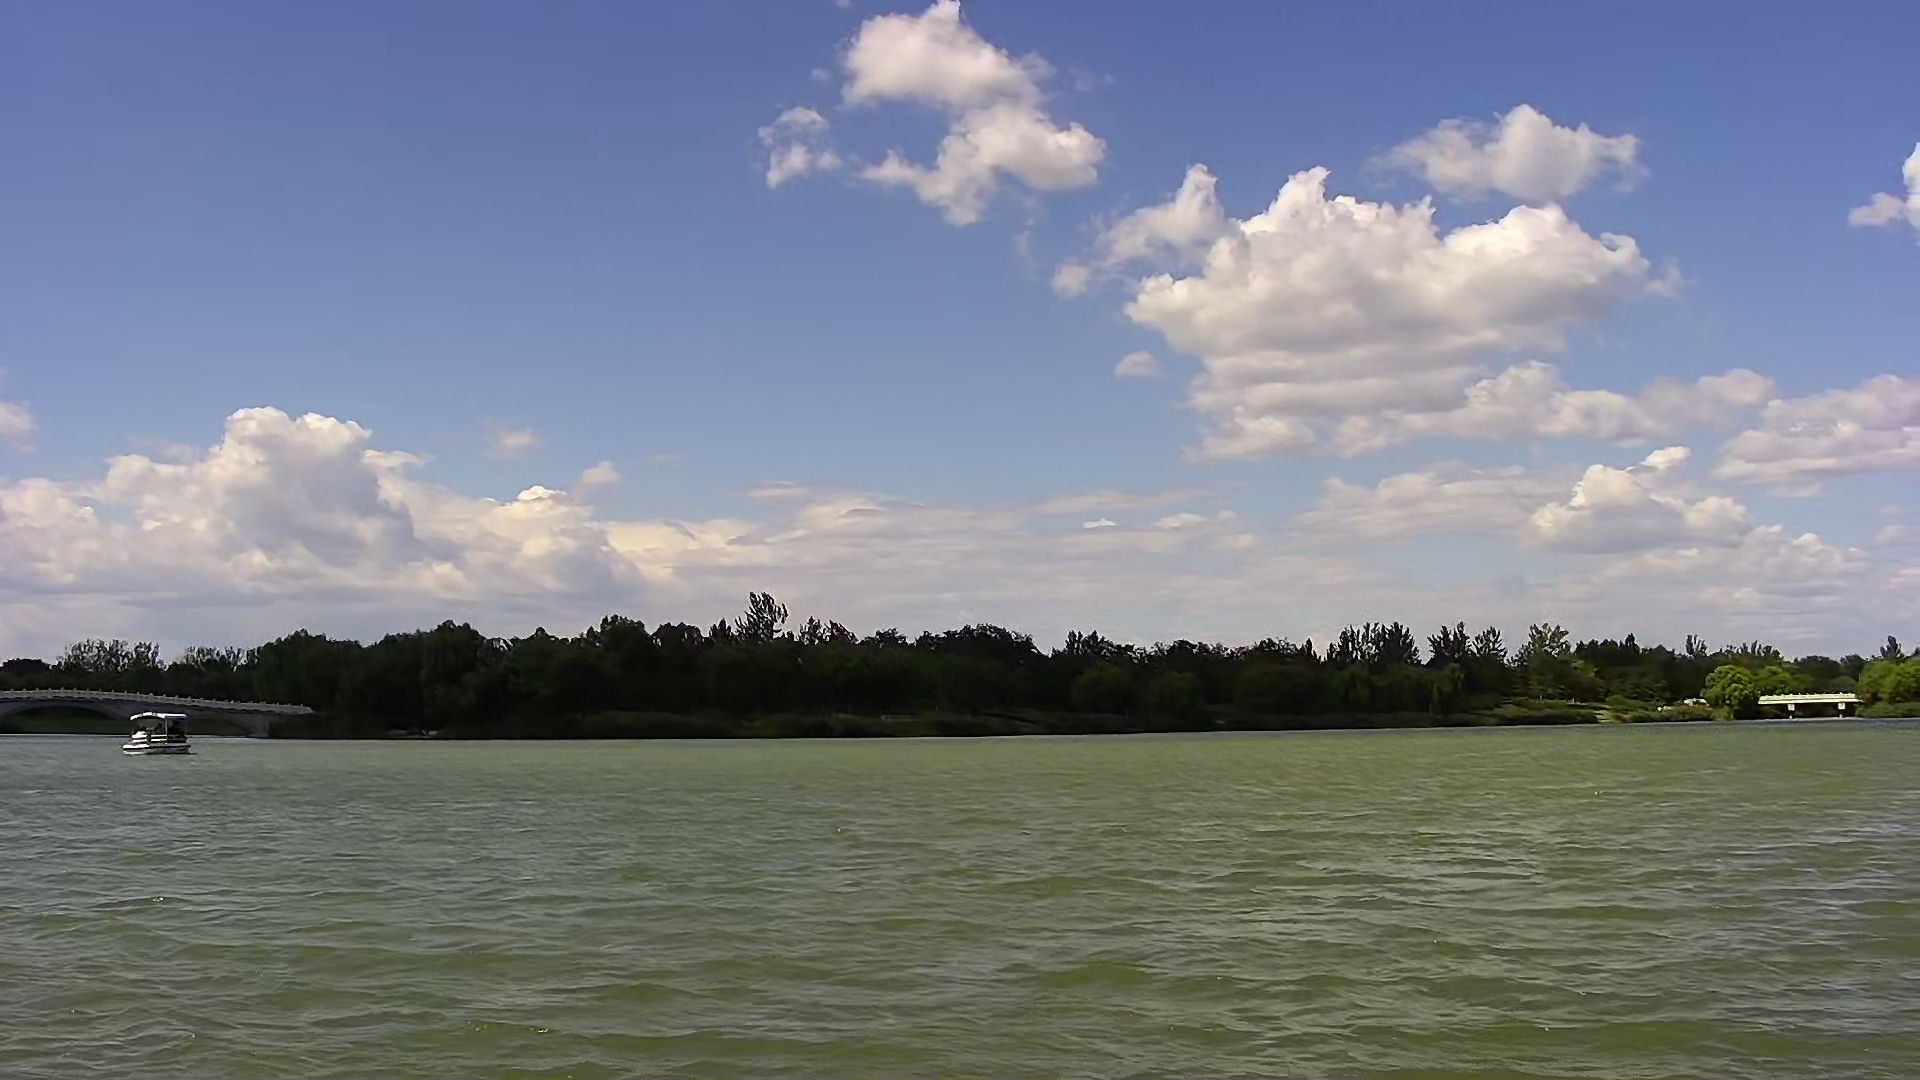boat: (119, 708, 195, 758)
bridge: (1, 676, 310, 735), (1756, 684, 1869, 729)
